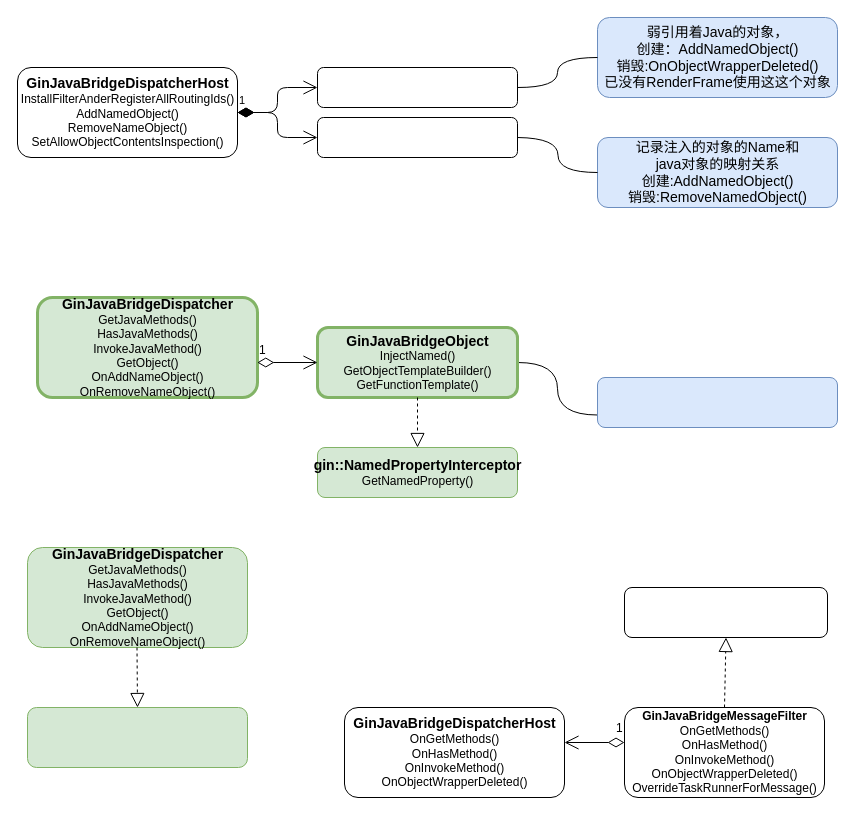
The diagram is 855 pixels wide and 815 high, and some of its shapes have lost their labels. The shapes that lost their labels are listed below. From the top down, each one's box as (x1, y1, x2, y2) in pixels, then its label:
(316, 66, 518, 108): GinJavaBoundObject
(316, 116, 518, 158): NamedObject
(596, 376, 838, 428): 代表V8的一个对象销毁应通知host， 同时销毁对应的GinJavaBoundObject
(624, 586, 828, 638): BrowserMessageFilter OnMessageReceived()
(26, 706, 248, 768): RenderFrameObserver OnMessageReceived() OnDestruct()
